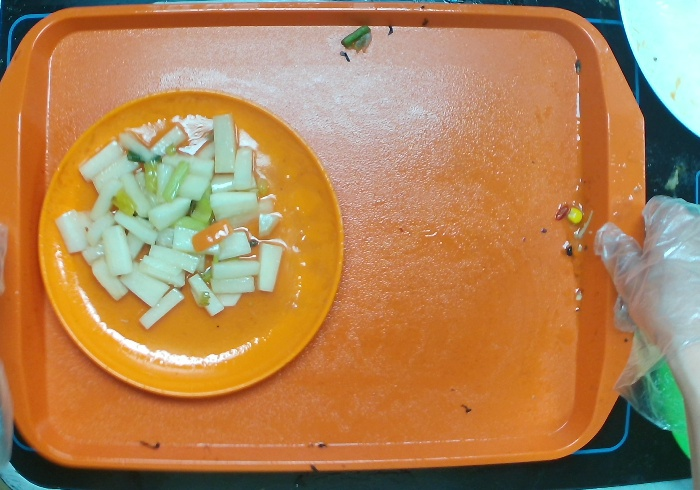HZYJPL-Ju_Huang_Yuan_Pan: (35, 87, 345, 400)
